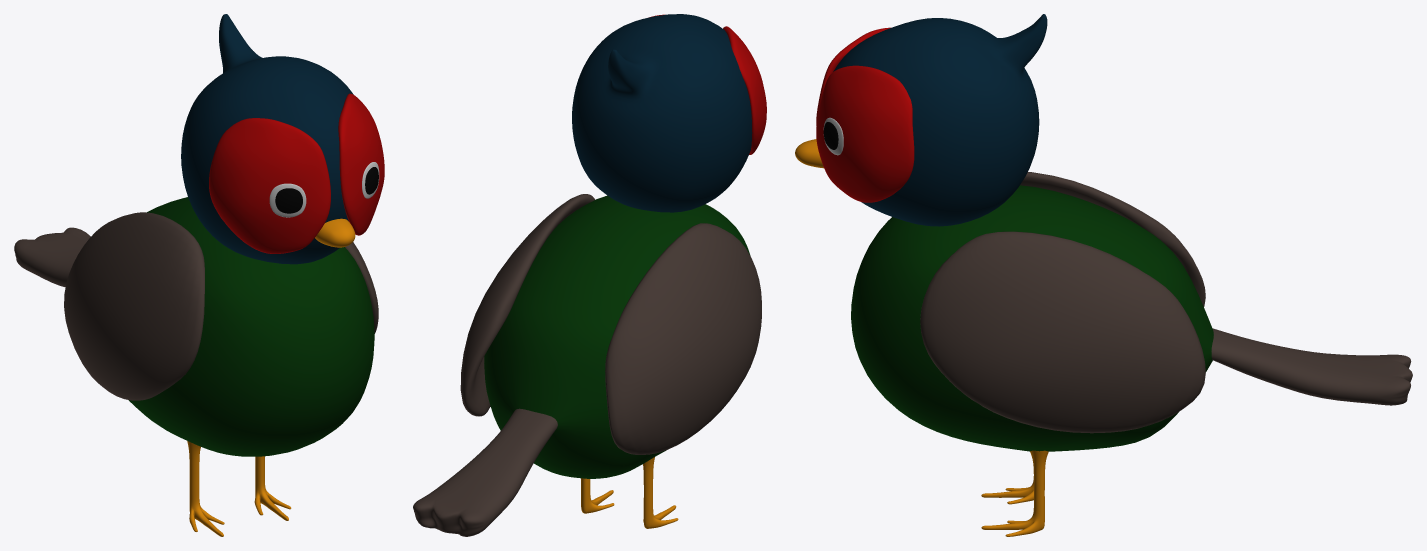
The model's file is pheasant.obj.
3 views of the same model, side by side, from view 1: azimuth 30°, elevation 25°; view 2: azimuth 150°, elevation 25°; view 3: azimuth 270°, elevation 25° (orthographic). The views are drawn at different scales.
Visible parts, largest first — view 1: body, wing, face, head, tail, leg, iris, mouth, eye; view 2: wing, body, head, tail, face, leg; view 3: wing, body, head, face, tail, leg.
Boxes of the visible parts, x1,y1,x2,y2 form: body: (128,197,374,456); wing: (64,212,378,400); face: (209,93,384,253); head: (181,14,353,264); tail: (14,227,90,287); leg: (187,441,291,536); iris: (275,167,378,213); mouth: (315,218,355,247); eye: (269,162,379,217); wing: (460,194,761,454); body: (484,195,750,478); head: (572,14,752,212); tail: (413,408,557,536); face: (649,14,766,154); leg: (581,457,678,528); wing: (920,172,1205,433); body: (851,185,1213,451); head: (833,14,1047,226); face: (816,27,914,202); tail: (1211,328,1412,405); leg: (981,450,1048,536).
Size of the model in its own units: 1.36 by 2.68 by 3.
